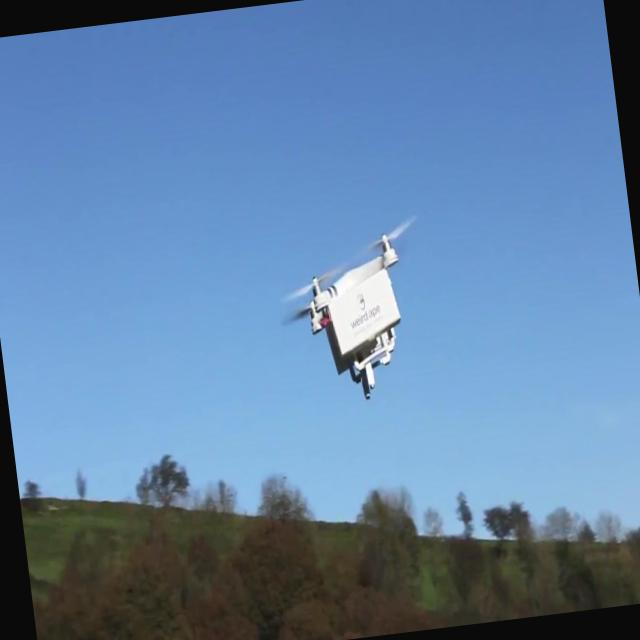drone: (272, 212, 440, 408)
